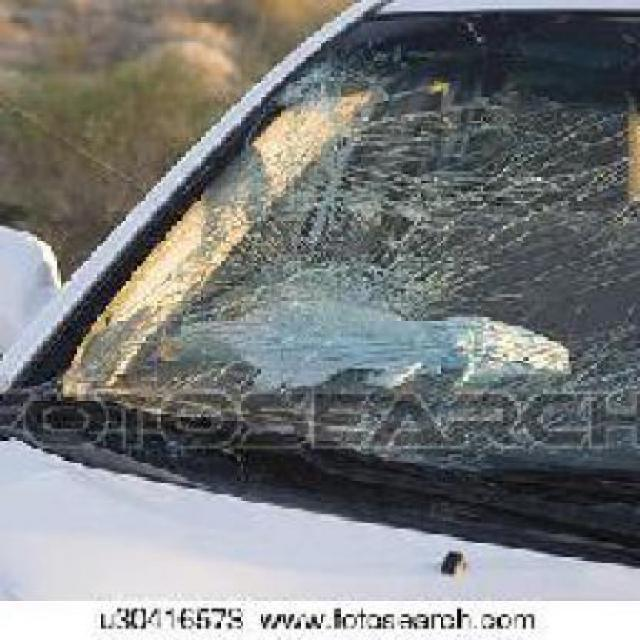damaged-windscreen: (76, 11, 638, 487)
